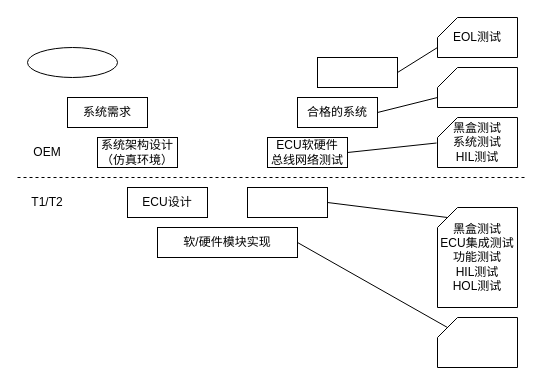
Image size: 546x385. Some labels were removed from this diagram. The box of each missing label's shape, as (x1, y1, x2, y2) in pixels:
ECU软硬件 集成: (246, 186, 328, 218)
产品: (316, 56, 398, 88)
应用案例测试: (436, 66, 518, 108)
白盒测试 SIL测试: (436, 316, 518, 368)
项目启动: (26, 46, 118, 78)
